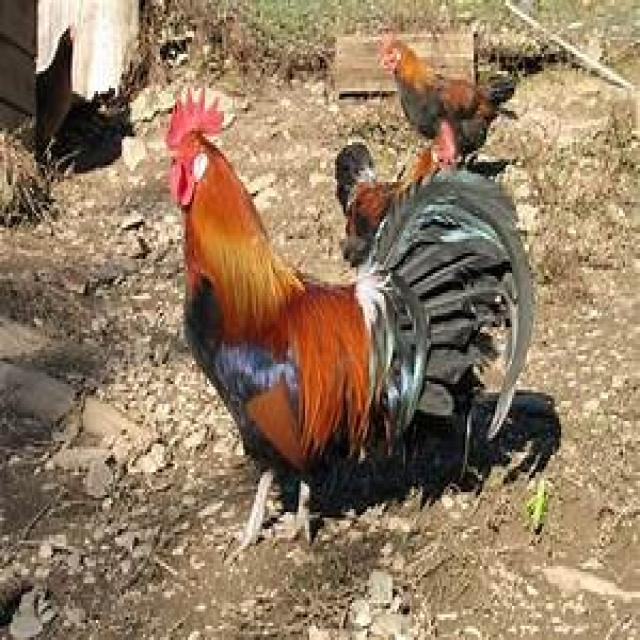hen: (164, 91, 540, 512)
